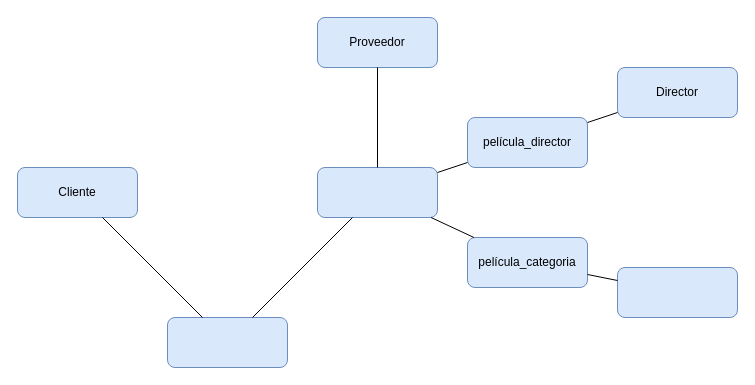
The diagram is 755 pixels wide and 385 high, and some of its shapes have lost their labels. The centre of each missing label's shape, as x and y in pixels:
Alquiler: point 227,342
Categoría: point 677,292
Película: point 377,192
